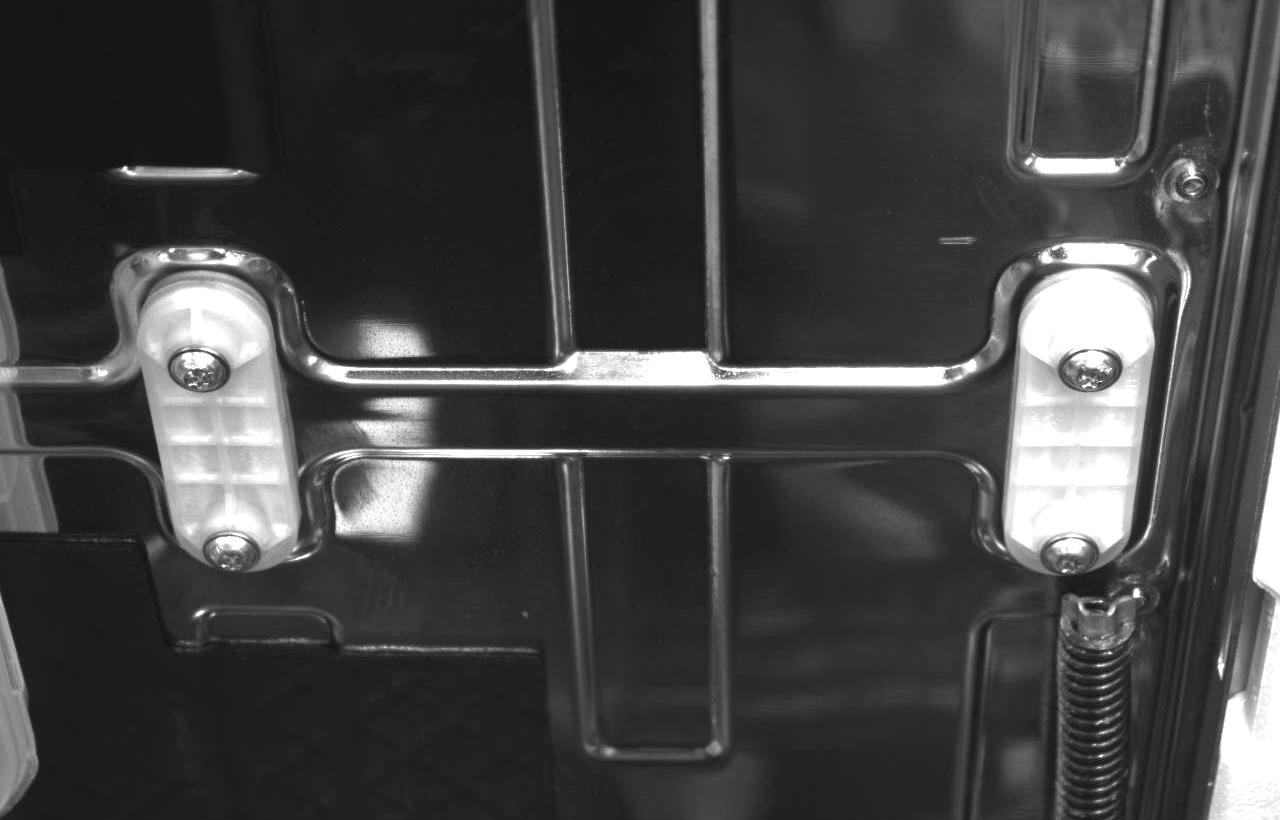vida-ok: (161, 338, 233, 405), (1057, 338, 1124, 405), (196, 522, 261, 581), (1036, 521, 1101, 579)
